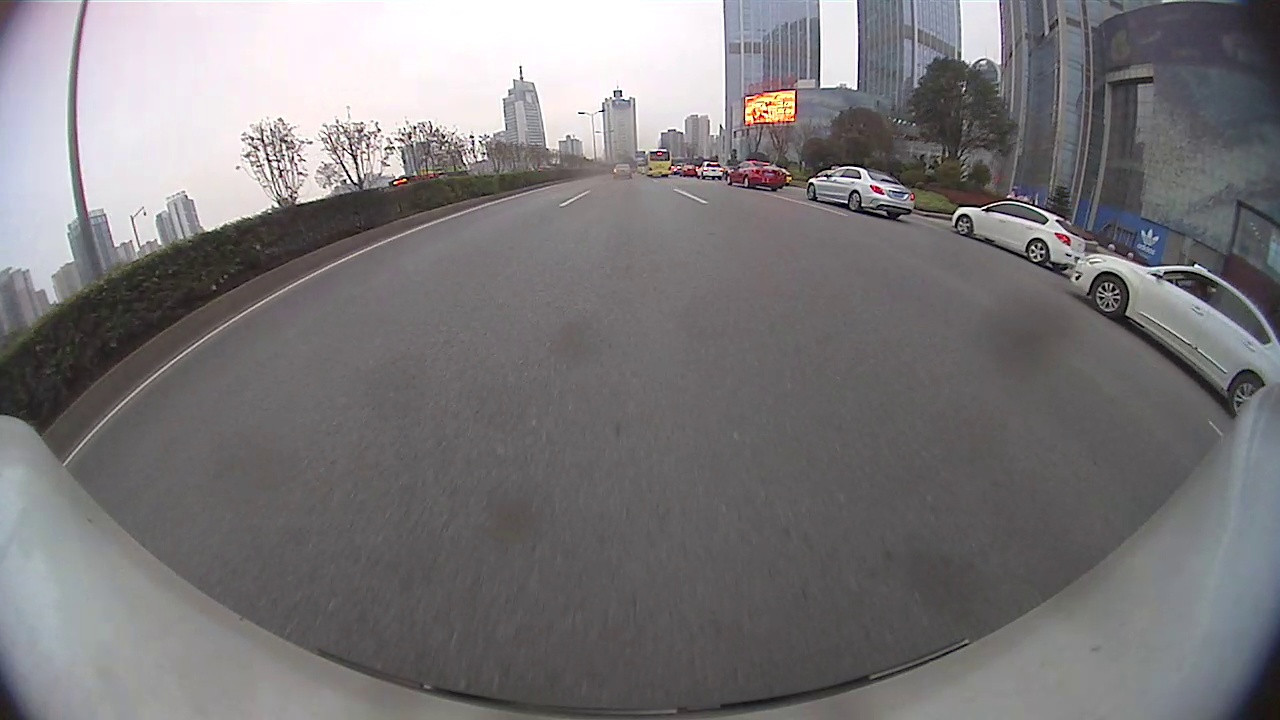bus: (386, 168, 470, 190), (642, 147, 674, 178)
car: (1066, 251, 1279, 424), (948, 194, 1091, 277), (803, 163, 918, 222), (725, 158, 788, 192), (695, 159, 726, 181), (611, 162, 634, 181), (679, 163, 698, 178)
front: (1091, 275, 1128, 319), (955, 214, 974, 237), (807, 183, 817, 202)
rear: (1229, 372, 1264, 415), (1027, 240, 1049, 266), (847, 192, 863, 212)
